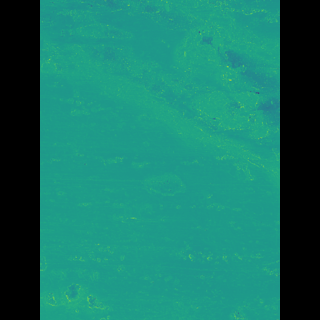Loch: (69, 0, 248, 187)
